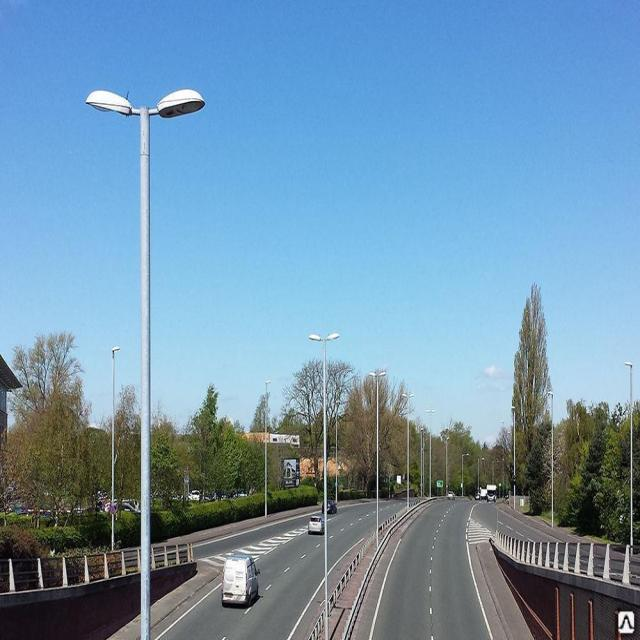pole: (136, 185, 156, 640)
